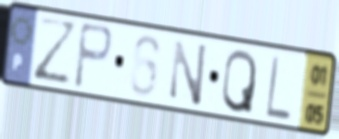6: (128, 33, 162, 99)
L: (263, 52, 293, 124)
N: (168, 37, 210, 110)
P: (71, 19, 115, 93)
Q: (219, 47, 259, 116)
Z: (31, 13, 81, 87)
